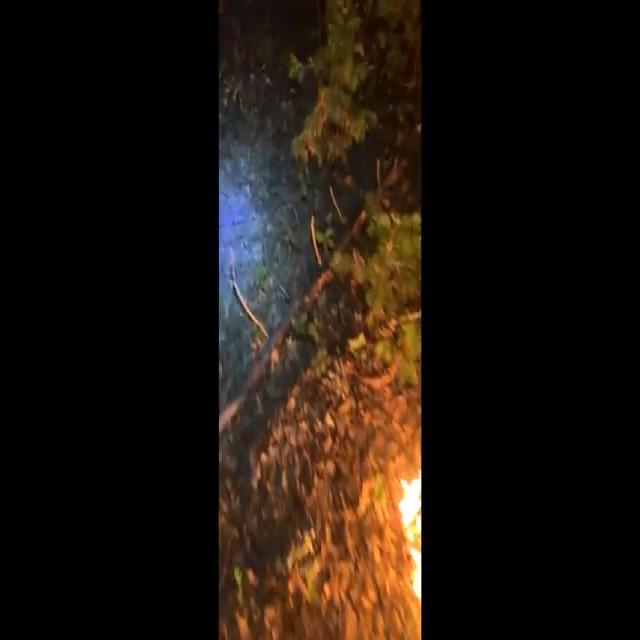Fire: (400, 464, 420, 604)
